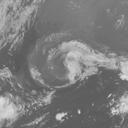cyclone: (28, 32, 127, 88)
